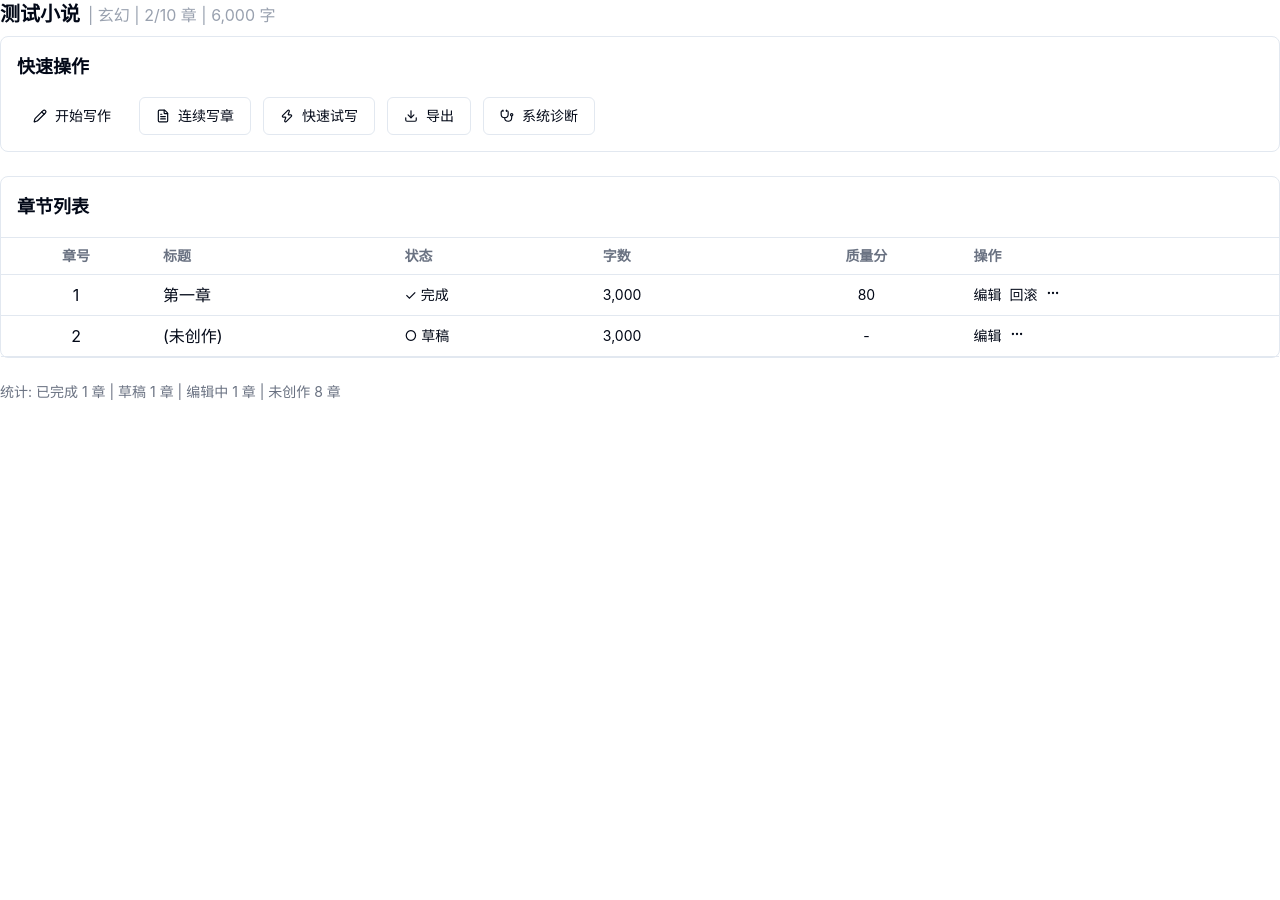
BookDetail Page › shows merge confirmation dialog before merging
The image size is (1280, 900).
Expected: the heading "测试小说| 玄幻 | 2/10 章 | 6,000 字" is shown, [0,2,276,26]
Click the button titled "更多操作" in the row of "(未创作)".
click(1017, 334)  # box [1010,327,1024,341]
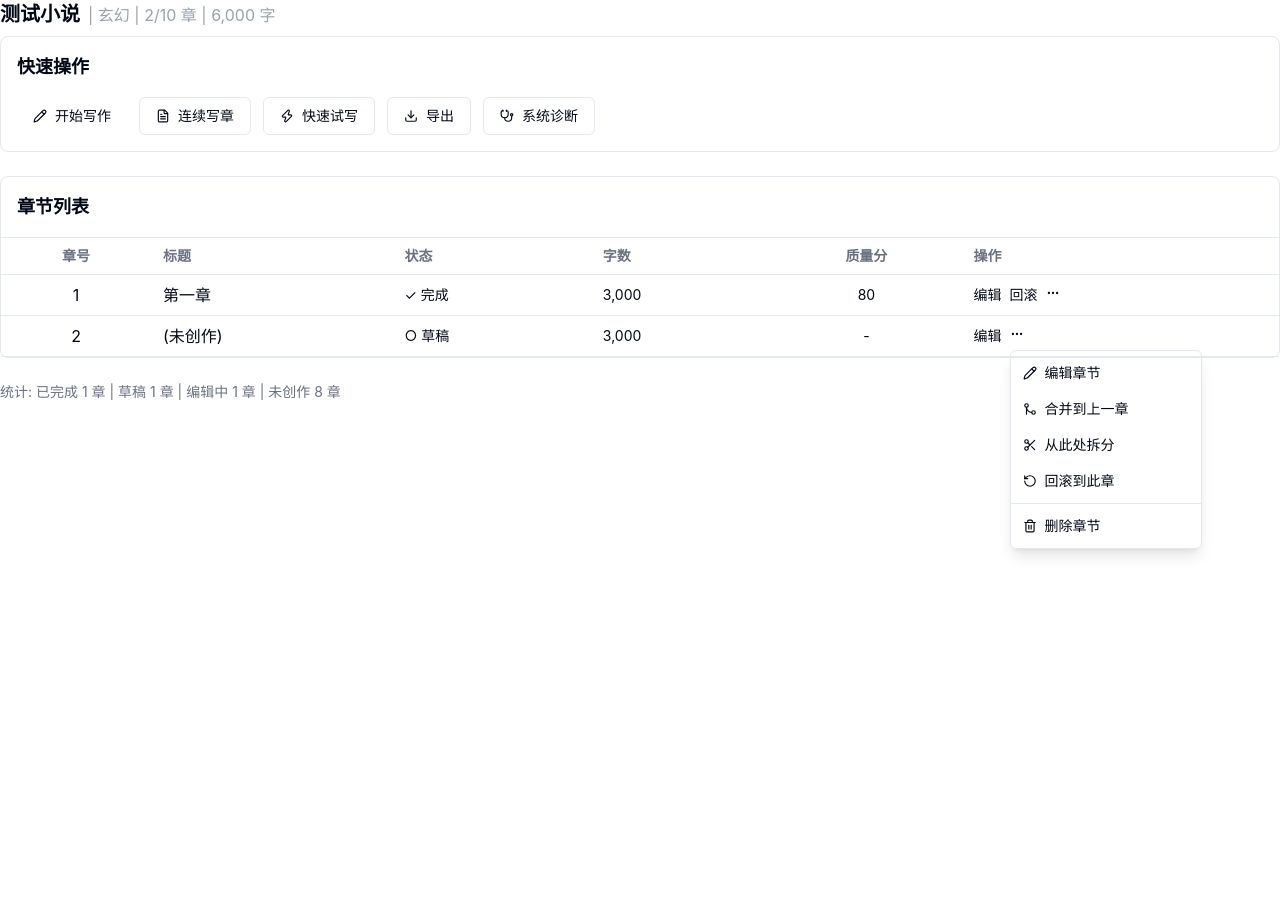
Result: the button "合并到上一章" is shown
Click the button "合并到上一章".
click(1106, 409)  # box [1011,391,1201,427]
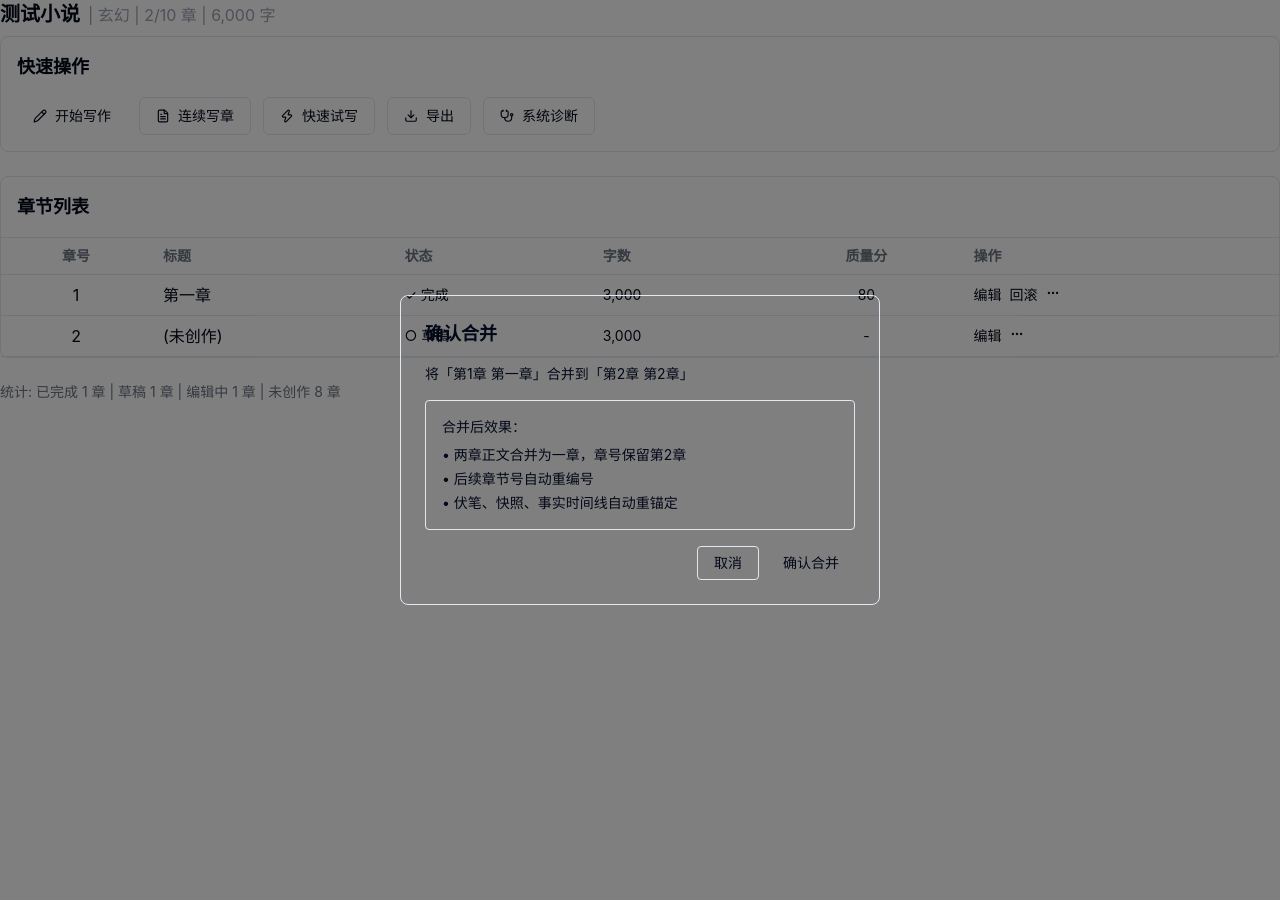
Result: the text "确认合并" is shown at [425,323,497,344]
